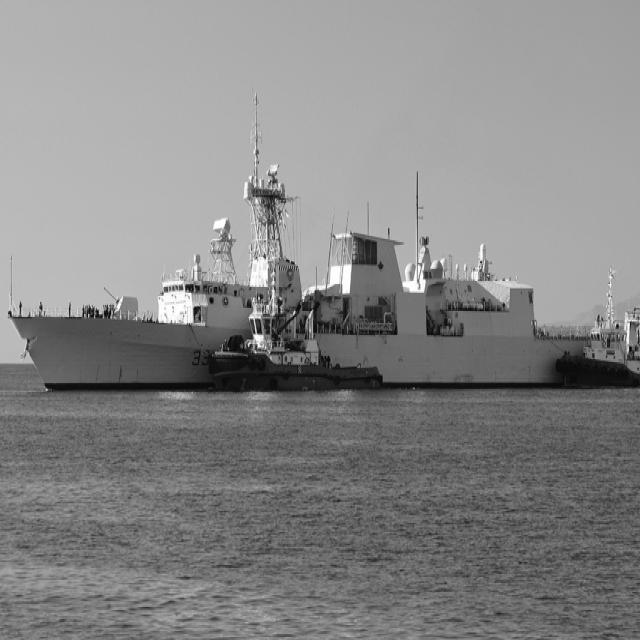Fragata: (3, 78, 640, 386)
